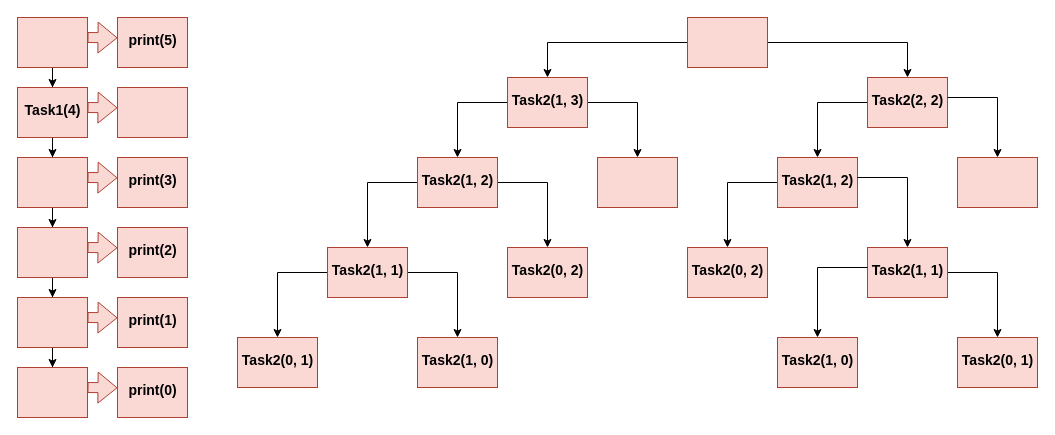
Some shapes in this 1055 by 435 pixel diagram are drawn without their labels. The box of each missing label's shape, as (x1, y1, x2, y2) in pixels:
print(4): (116, 86, 188, 138)
Task1(0): (16, 366, 88, 418)
Task1(1): (16, 296, 88, 348)
Task1(2): (16, 226, 88, 278)
Task1(3): (16, 156, 88, 208)
Task1(5): (16, 16, 88, 68)
Task2(0, 3): (596, 156, 678, 208)
Task2(2, 1): (956, 156, 1038, 208)
Task2(2, 3): (686, 16, 768, 68)
